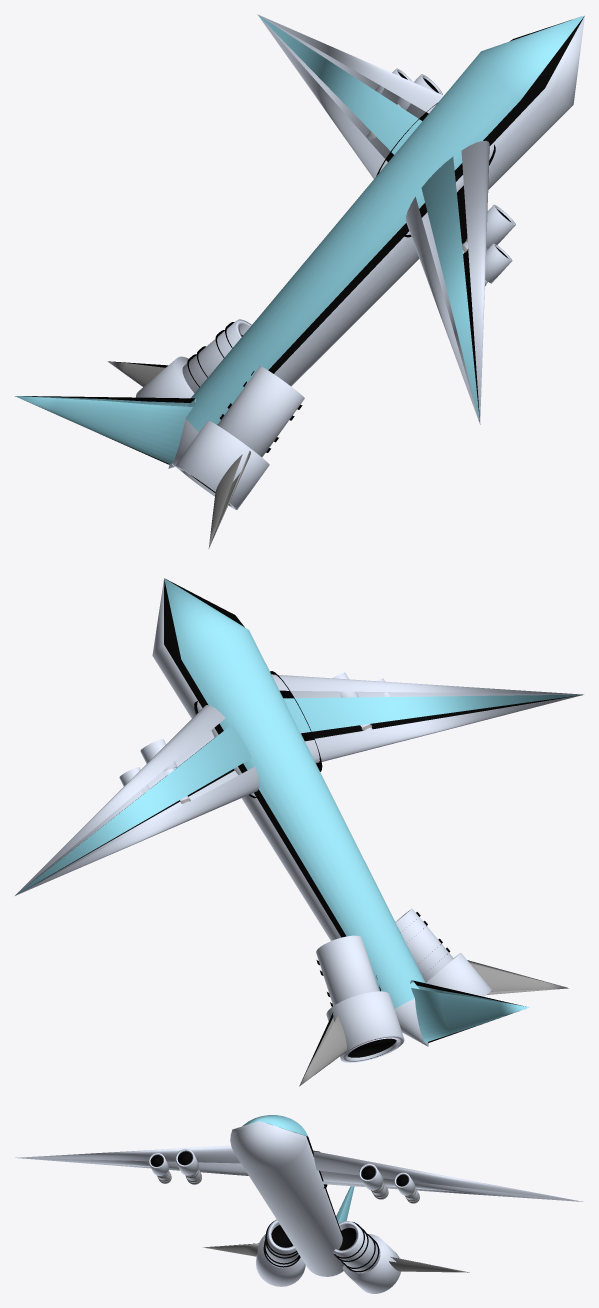
The model's file is FuturisticAirplane.fbx.
3 views of the same model, one above another, from view 1: azimuth 30°, elevation 25°; view 2: azimuth 150°, elevation 25°; view 3: azimuth 270°, elevation 25° (orthographic). The views are drawn at different scales.
Parts seen in each view (by area): view 1: Plane; view 2: Plane; view 3: Plane.
Boxes of the visible parts, x1,y1,x2,y2 form: Plane: [15, 14, 584, 548]; Plane: [15, 578, 583, 1086]; Plane: [15, 1115, 583, 1293].
Bounding box in the file's own units: 957 × 777 × 1469.
